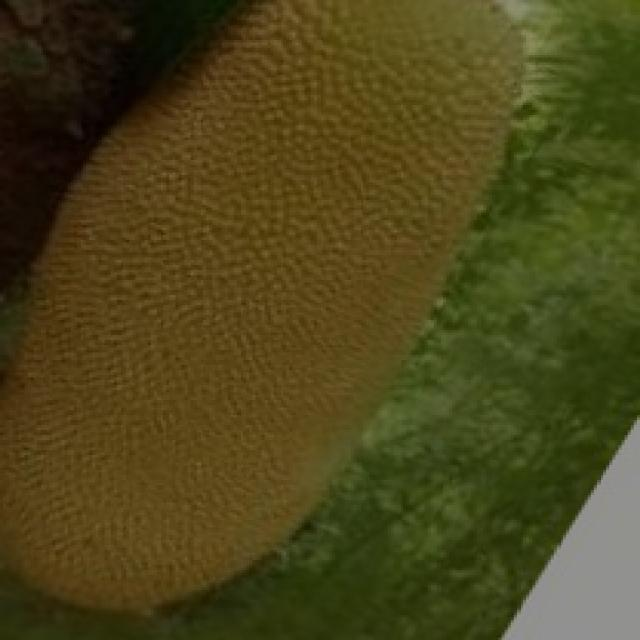Fruit: (200, 0, 578, 408), (0, 287, 391, 640)
